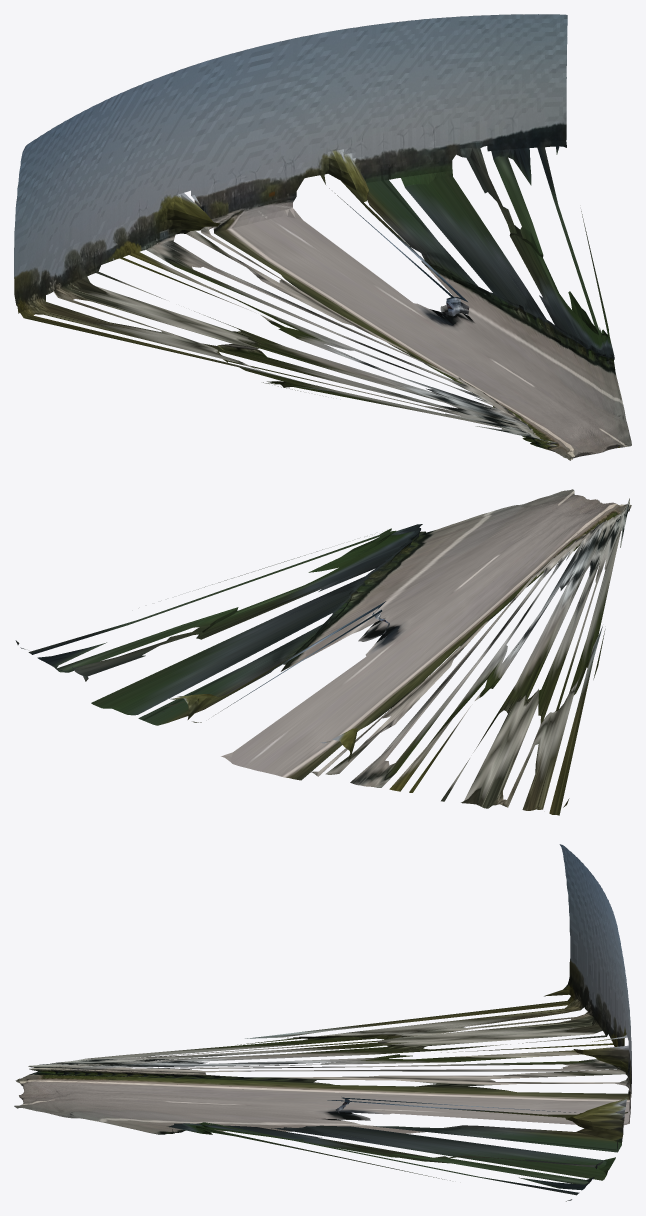
3 views of the same model, one above another, from view 1: azimuth 30°, elevation 25°; view 2: azimuth 150°, elevation 25°; view 3: azimuth 270°, elevation 25° (orthographic). The views are drawn at different scales.
Visible parts, largest first — view 1: defaultobject; view 2: defaultobject; view 3: defaultobject.
Boxes of the visible parts, box(x1,y1,x2,y2) form: defaultobject: box(14, 14, 631, 460); defaultobject: box(15, 489, 631, 815); defaultobject: box(14, 844, 631, 1201).
Size of the model in its own units: 41.16 by 13.23 by 44.7.
1 material, 1 textured.
